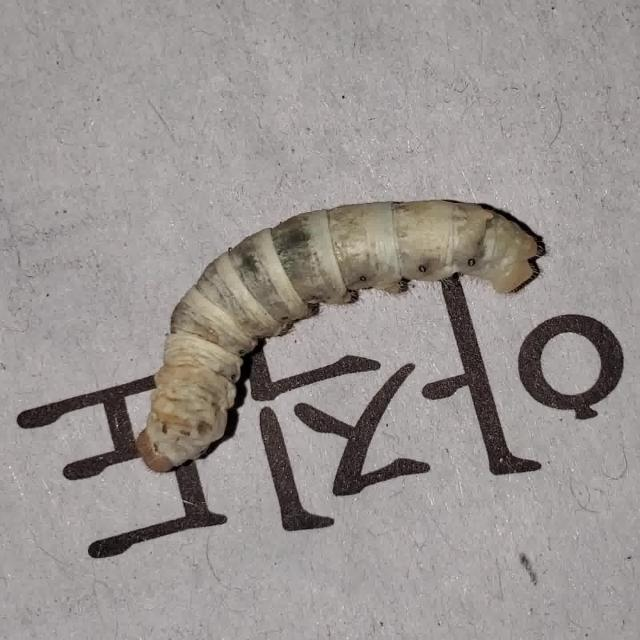Grasserie: (93, 165, 570, 489)
